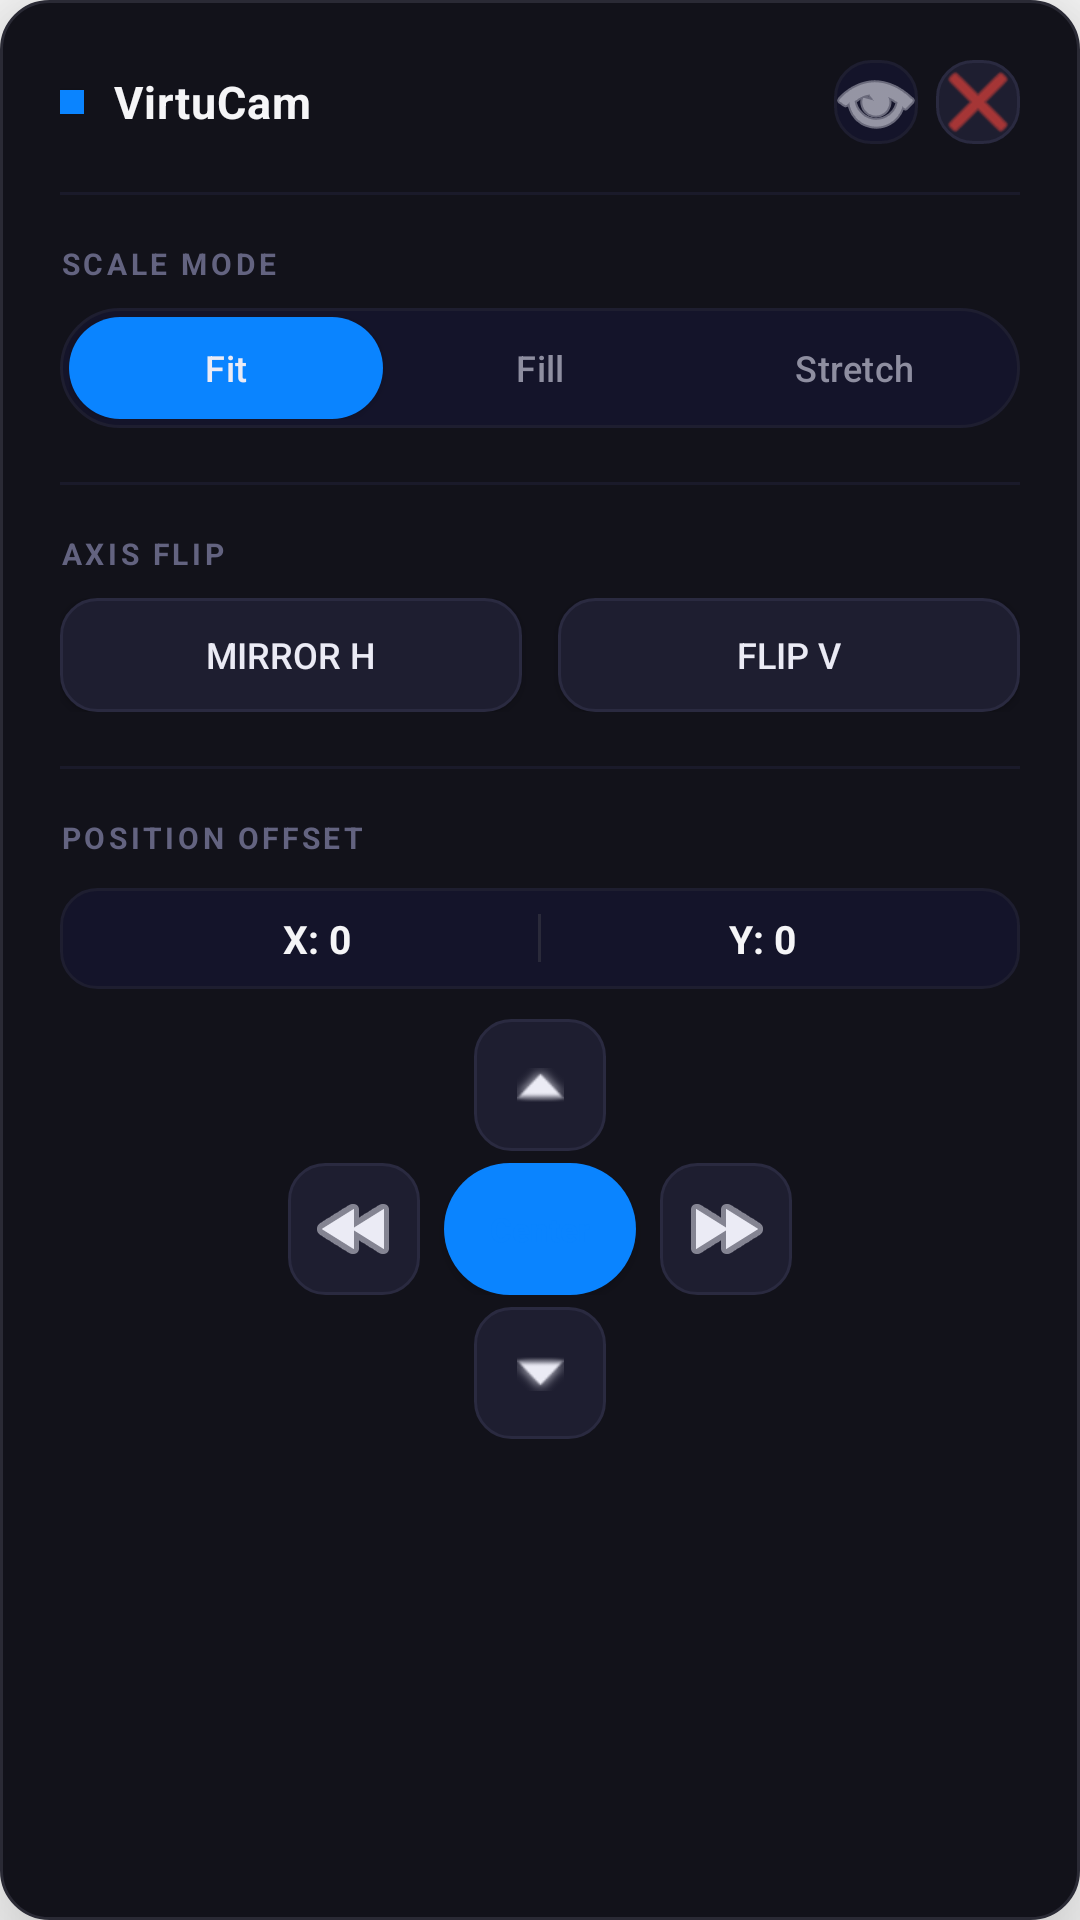

Icon bounding boxes for this 1080x1920 phone screenshot, format (x1, y1, x2, y2):
Close: (936, 60, 1020, 144)
Nudge Down: (474, 1307, 606, 1439)
Nudge Left: (288, 1163, 420, 1295)
Nudge Right: (660, 1163, 792, 1295)
Nudge Up: (474, 1019, 606, 1151)
